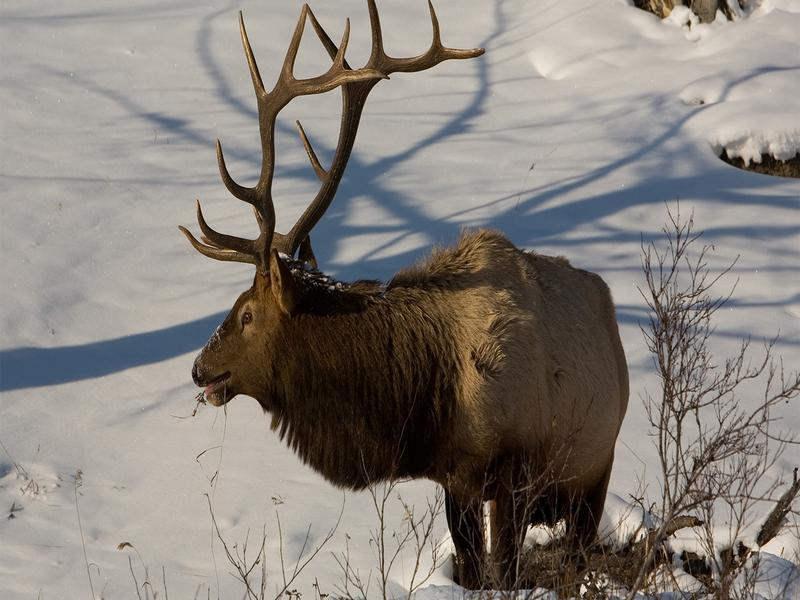elk: (183, 46, 633, 584)
